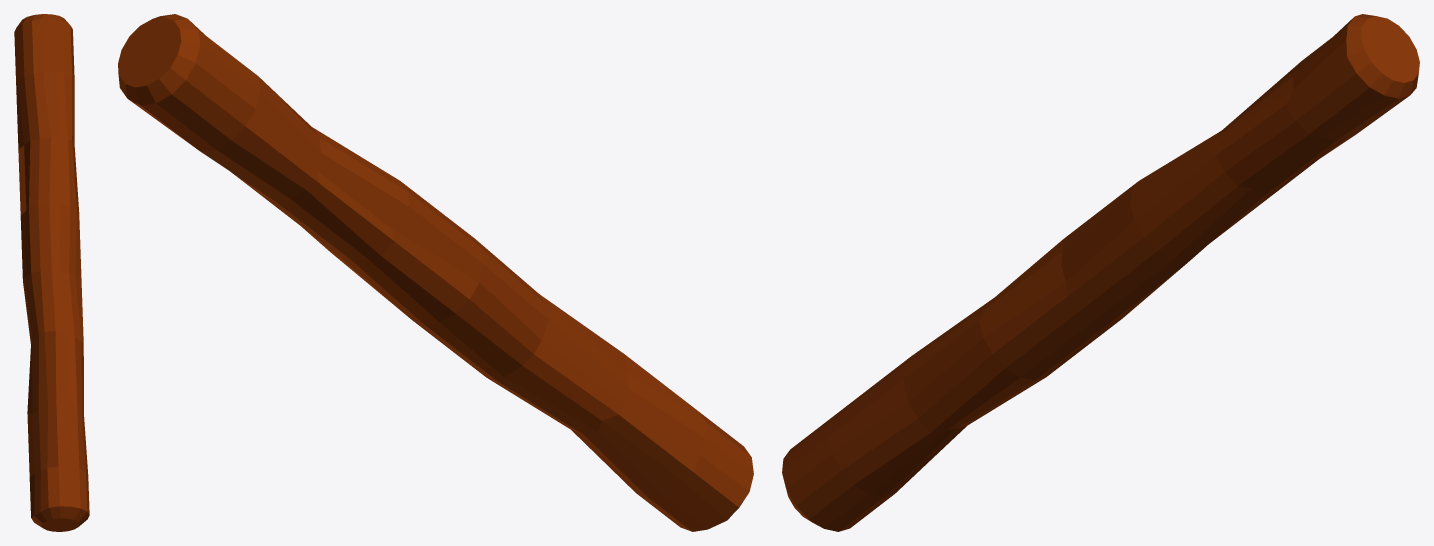
File: Stick.fbx
3 views of the same model, side by side, from view 1: azimuth 30°, elevation 25°; view 2: azimuth 150°, elevation 25°; view 3: azimuth 270°, elevation 25° (orthographic). The views are drawn at different scales.
Visible parts, largest first — view 1: Cylinder; view 2: Cylinder; view 3: Cylinder.
Part boxes in pixels (box(x1,y1,x2,y2)): Cylinder: box(14, 14, 89, 531); Cylinder: box(118, 14, 753, 531); Cylinder: box(782, 14, 1419, 531).
Size of the model in its own units: 232 by 415 by 386.
